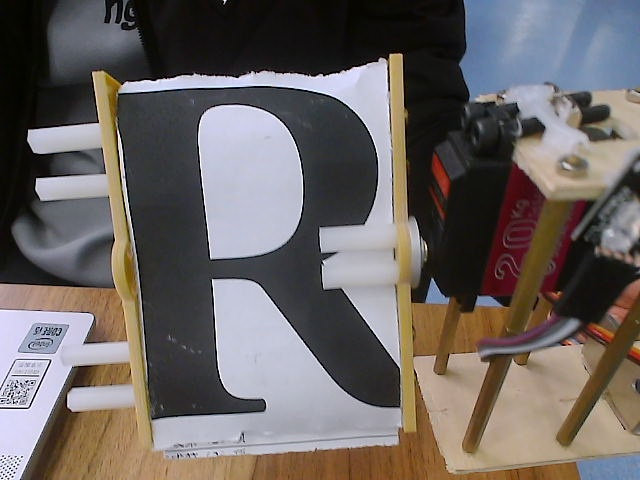R: (42, 38, 415, 469)
